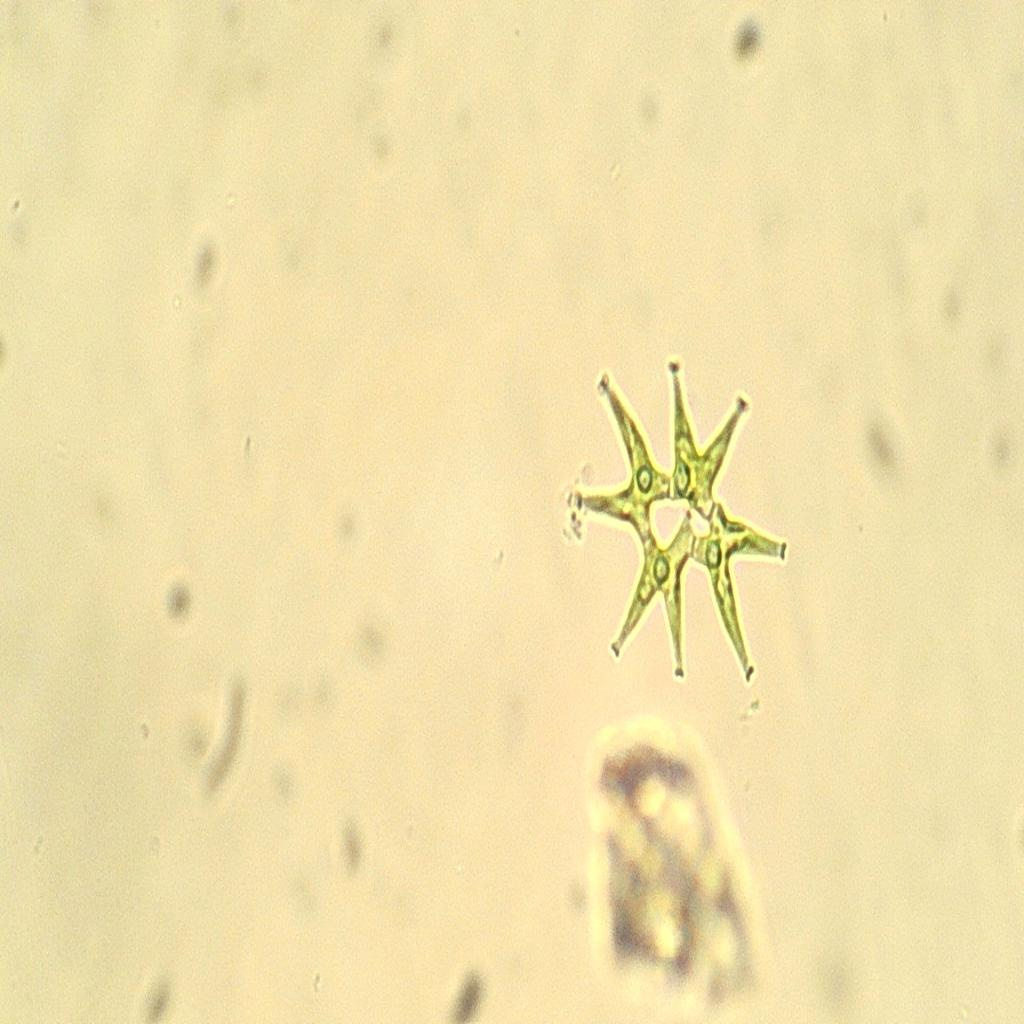Pediastrum_75FO: (554, 349, 802, 693)
